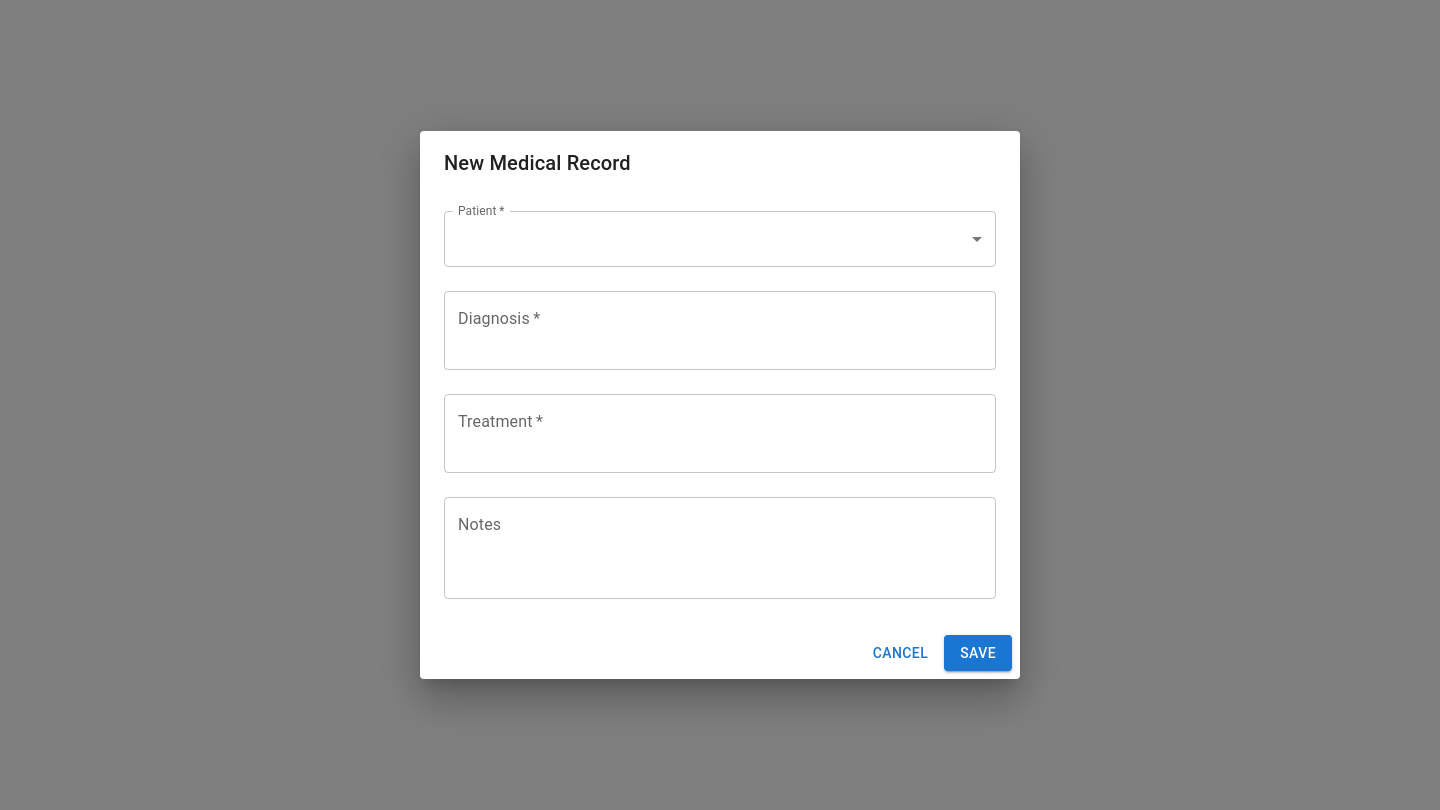
Test: MedicalRecordDialog › loads and displays patients
// Open patient select
Press the mouse on the dropdown named "Patient *" at (720, 239), box [444,211,996,267]
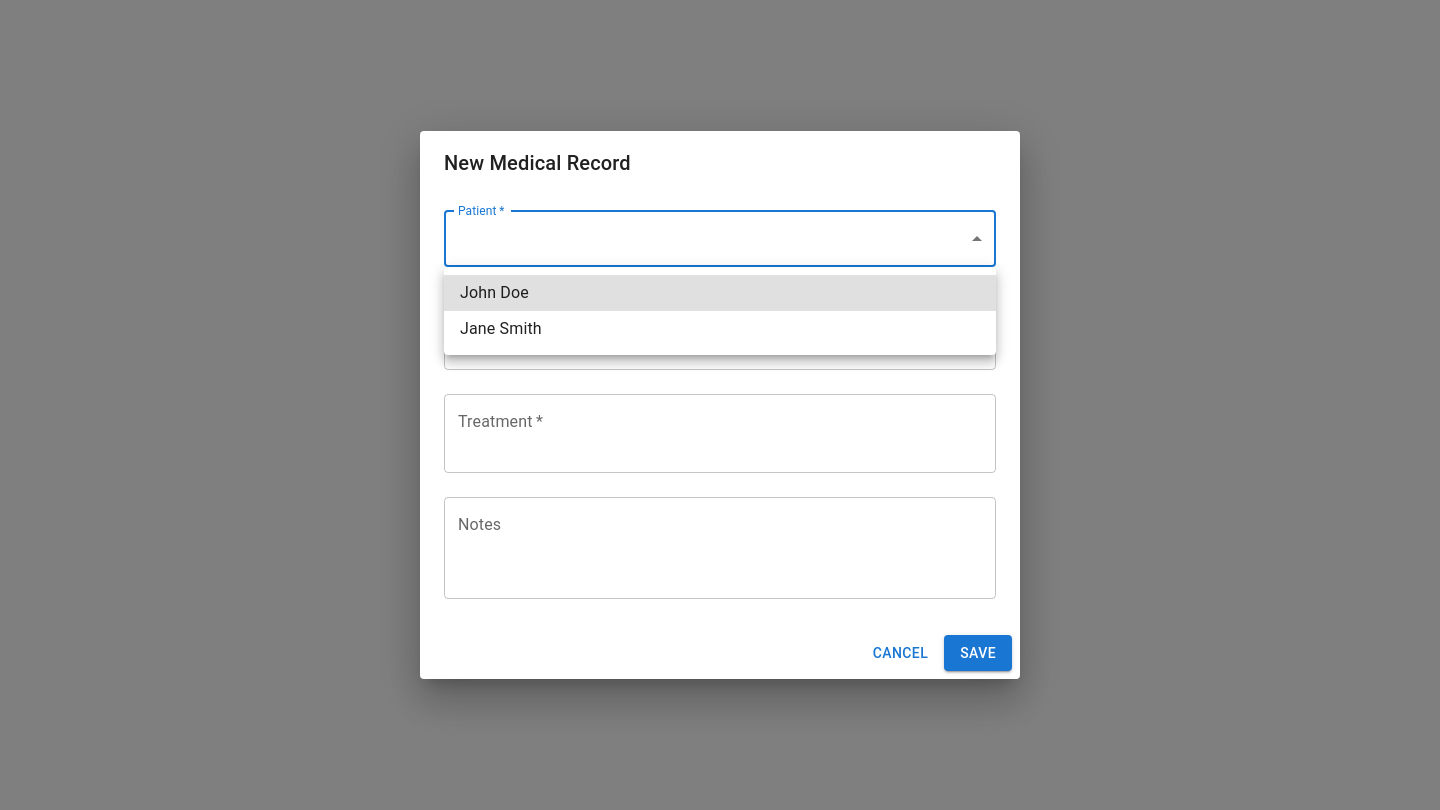
Now the option "John Doe" is shown, box [444,275,996,311]
Now the option "Jane Smith" is shown, box [460,319,542,338]
